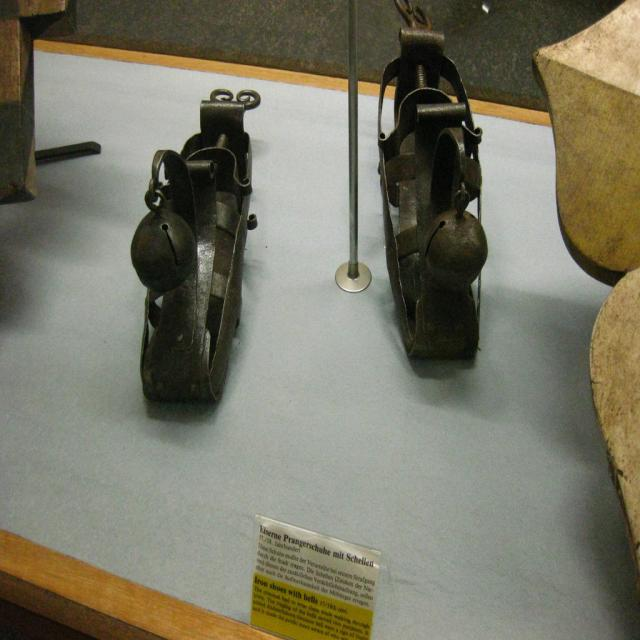Table: (0, 64, 640, 639)
